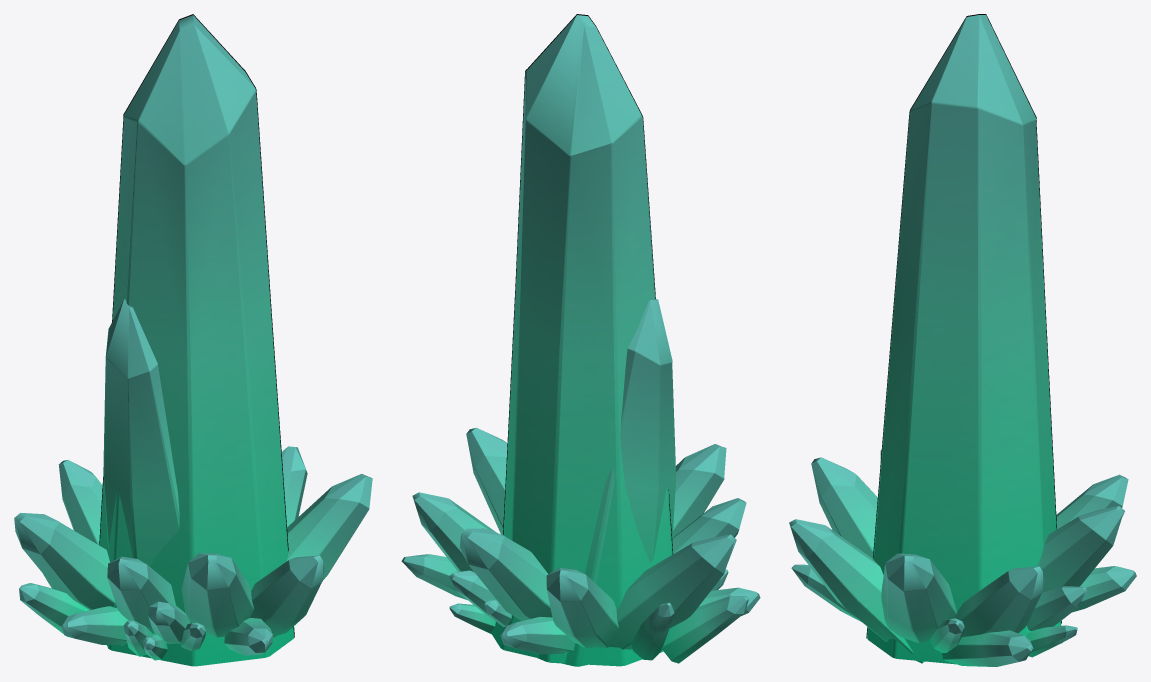
Rendered from crystal-crossroads__Crystal_ClusterSurrounded.glb.
The picture shows the model from 3 angles, left to right: view 1: azimuth 30°, elevation 25°; view 2: azimuth 150°, elevation 25°; view 3: azimuth 270°, elevation 25°; orthographic projection.
Visible parts, largest first — view 1: Crystal_ClusterSurrounded; view 2: Crystal_ClusterSurrounded; view 3: Crystal_ClusterSurrounded.
Boxes of the visible parts, x1,y1,x2,y2 form: Crystal_ClusterSurrounded: (14,14,372,666); Crystal_ClusterSurrounded: (401,14,760,666); Crystal_ClusterSurrounded: (789,14,1136,666).
Size of the model in its own units: 8.04 by 14.74 by 7.51.
2 materials, 1 textured.
